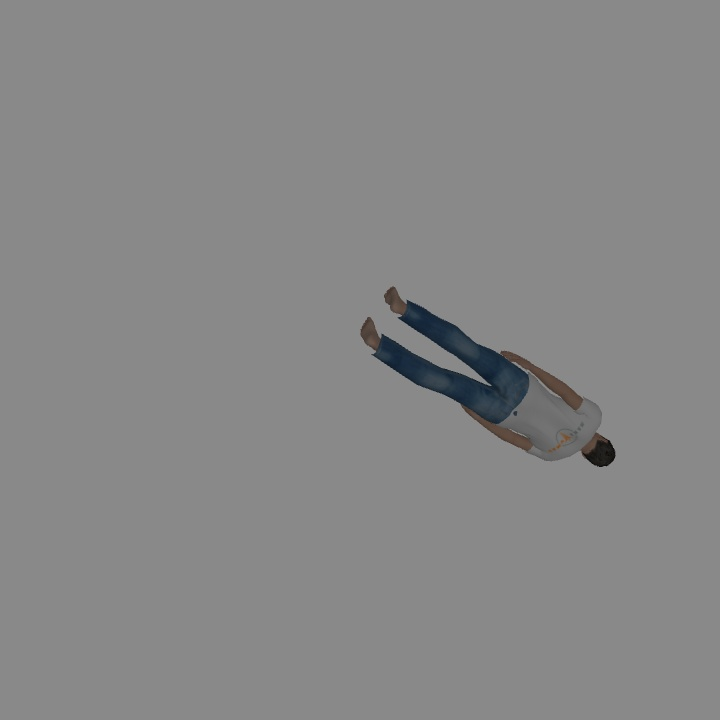victim: (360, 292, 617, 464)
